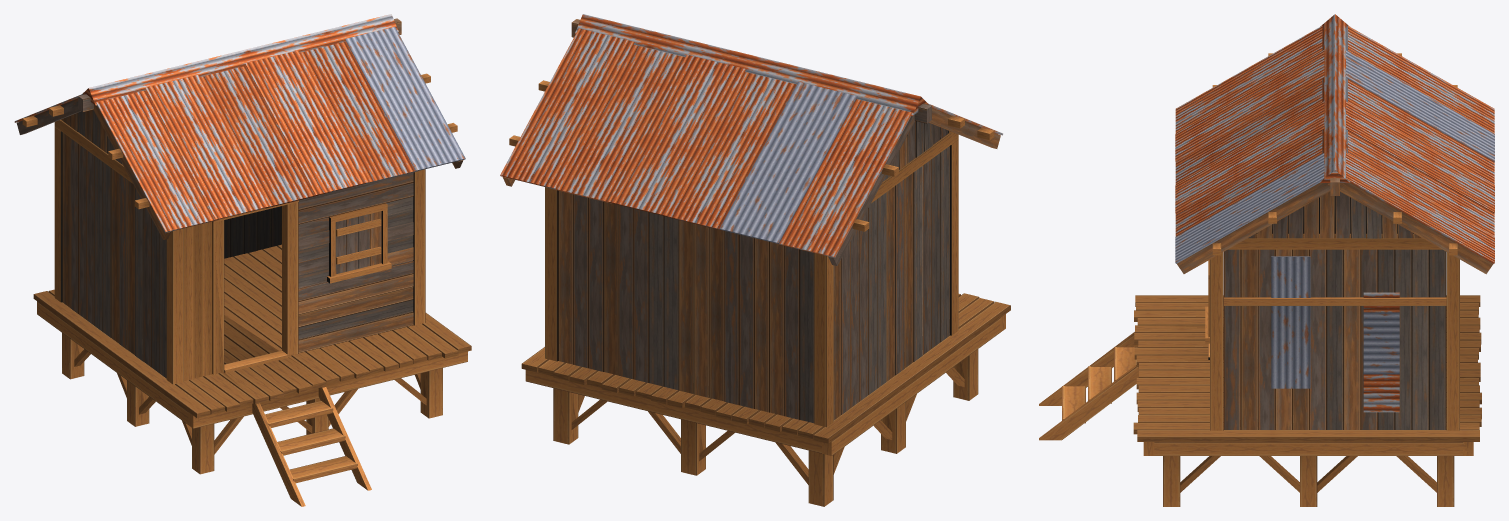
Rendered from houdini_stilt_shack_gpt.glb.
The picture shows the model from 3 angles, left to right: view 1: azimuth 30°, elevation 25°; view 2: azimuth 150°, elevation 25°; view 3: azimuth 270°, elevation 25°; orthographic projection. The views are drawn at different scales.
Parts seen in each view (by area): view 1: LOD0; view 2: LOD0; view 3: LOD0.
Part boxes in pixels (box(x1,y1,x2,y2)): LOD0: box(14, 14, 471, 506); LOD0: box(500, 14, 1010, 506); LOD0: box(1039, 14, 1494, 506).
Size of what is drawn, in the model's own units: 4.04 by 4.05 by 4.74.
2 materials, 2 textured.
